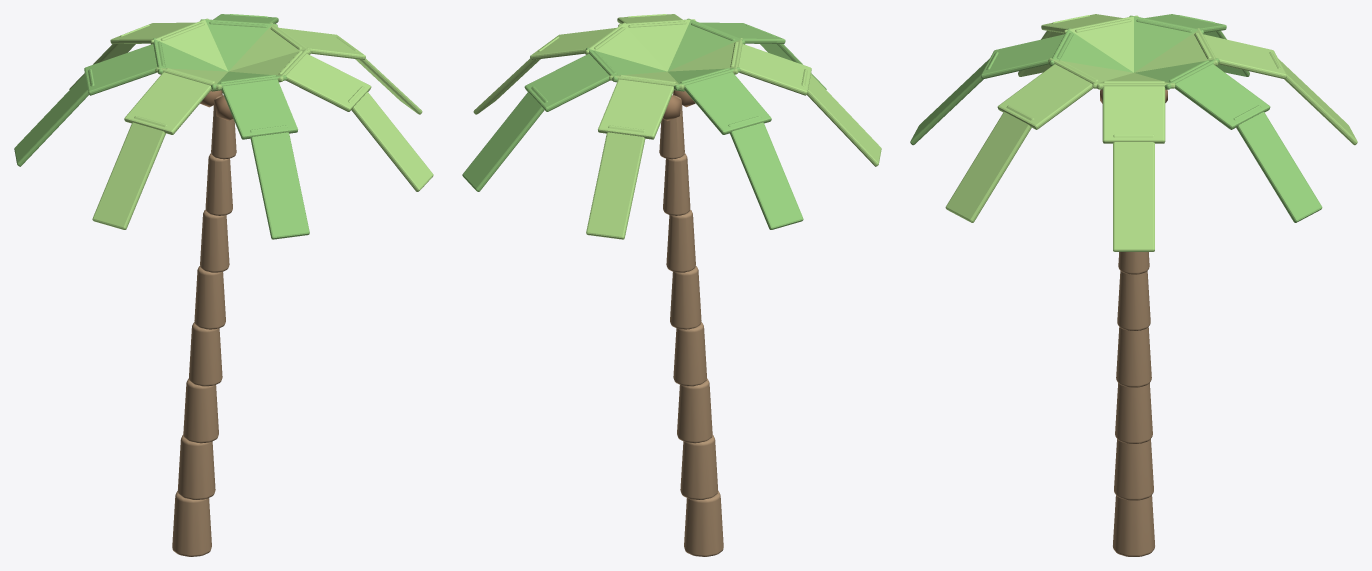
Rendered from palm.fbx.
3 renders of one model, left to right at view 1: azimuth 30°, elevation 25°; view 2: azimuth 150°, elevation 25°; view 3: azimuth 270°, elevation 25°, orthographic. The views are drawn at different scales.
Parts seen in each view (by area): view 1: Visual; view 2: Visual; view 3: Visual.
Boxes of the visible parts, x1,y1,x2,y2 form: Visual: [14, 14, 433, 556]; Visual: [462, 14, 881, 556]; Visual: [910, 14, 1357, 556].
Size of what is drawn, in the model's own units: 475 by 620 by 487.
